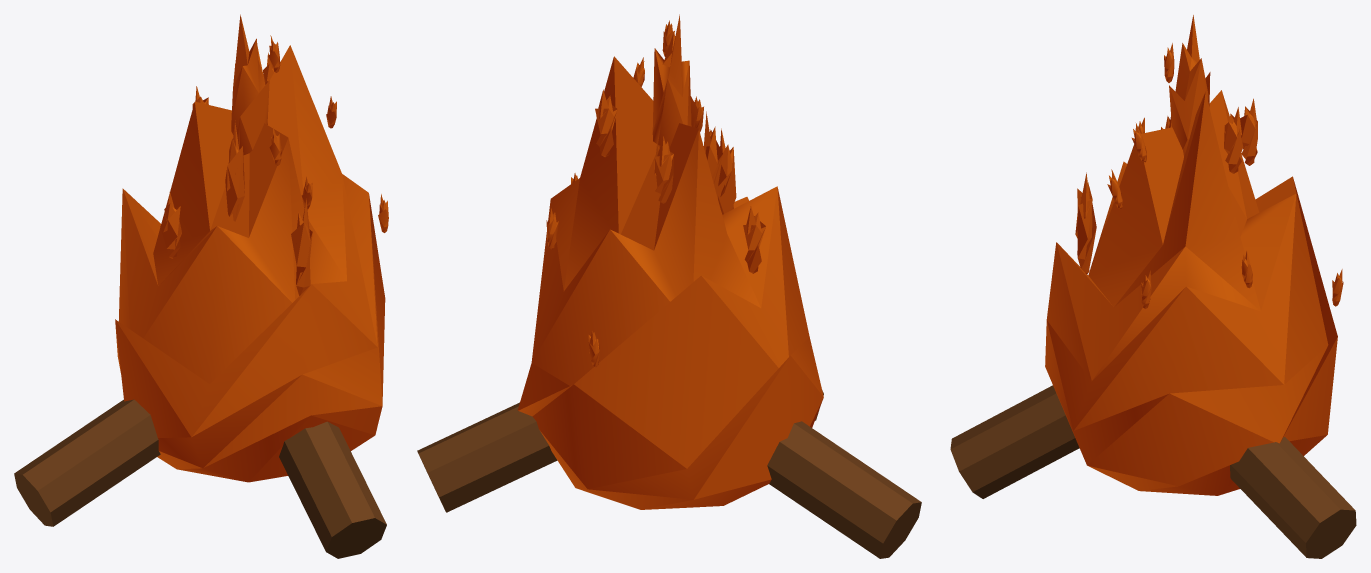
Rendered from bonfire.glb.
3 renders of one model, left to right at view 1: azimuth 30°, elevation 25°; view 2: azimuth 150°, elevation 25°; view 3: azimuth 270°, elevation 25°, orthographic. The views are drawn at different scales.
Visible parts, largest first — view 1: pSphere1; view 2: pSphere1; view 3: pSphere1.
Boxes of the visible parts, <box> form: pSphere1: <box>14,14,388,558</box>; pSphere1: <box>417,14,921,558</box>; pSphere1: <box>950,15,1356,558</box>.
Size of the model in its own units: 3.22 by 3.57 by 2.76.
